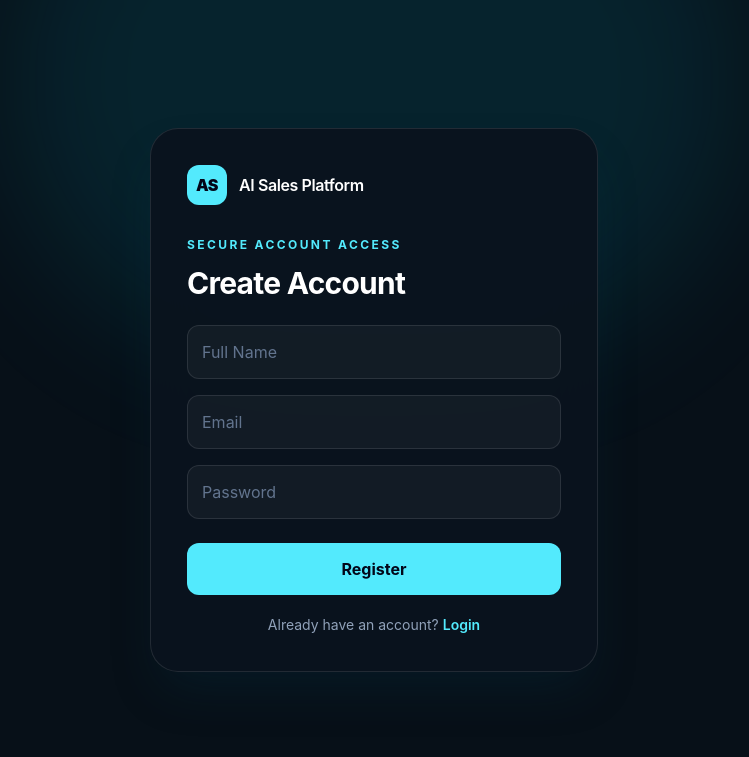
authentication form › labels and submits registration fields
This screenshot has width=749, height=757.
Type "Sales Admin" into the field labelled "Full Name" at coordinates (374, 352), box [187,325,561,379]
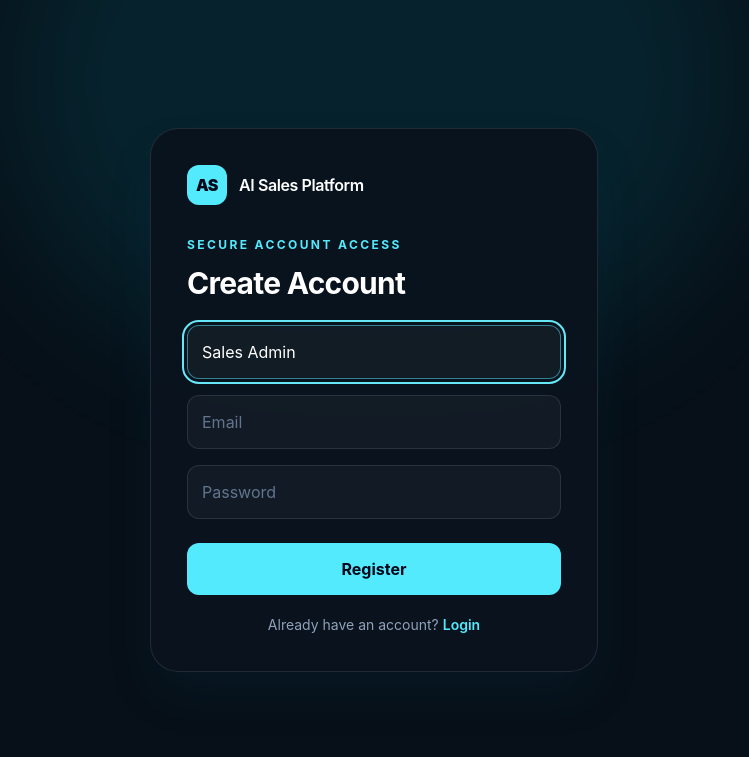
Type "admin@example.com" into the field named "Email address" at coordinates (374, 422), box [187,395,561,449]
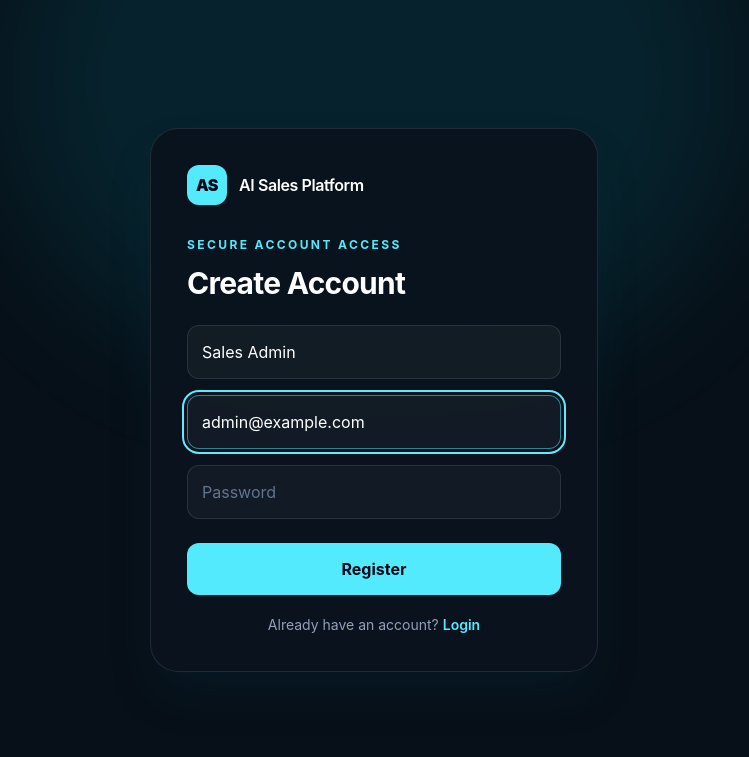
Type "safe-password" into the password field labelled "Password" at coordinates (374, 492), box [187,465,561,519]
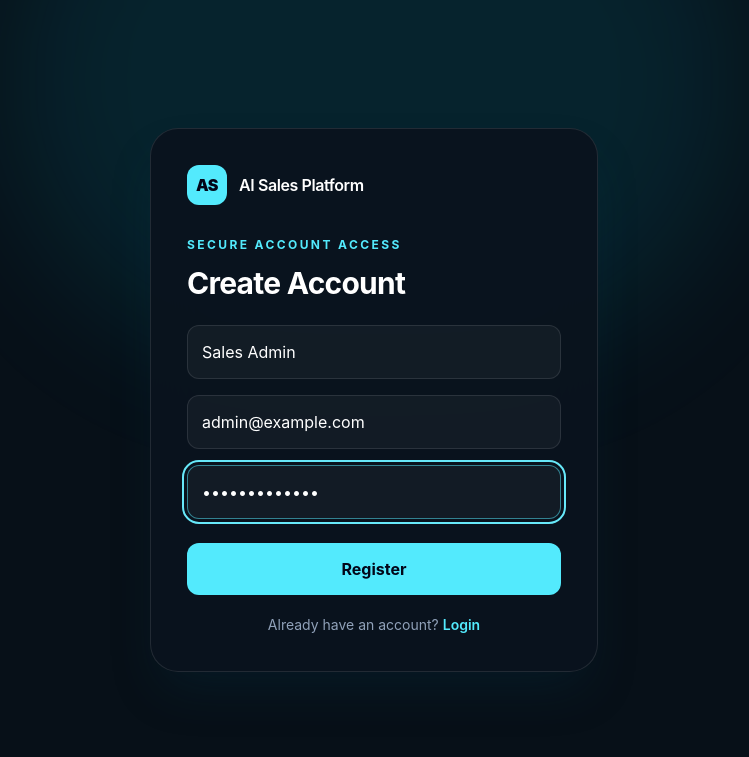
Click the button "Register" at coordinates (374, 569), box [187,543,561,595]
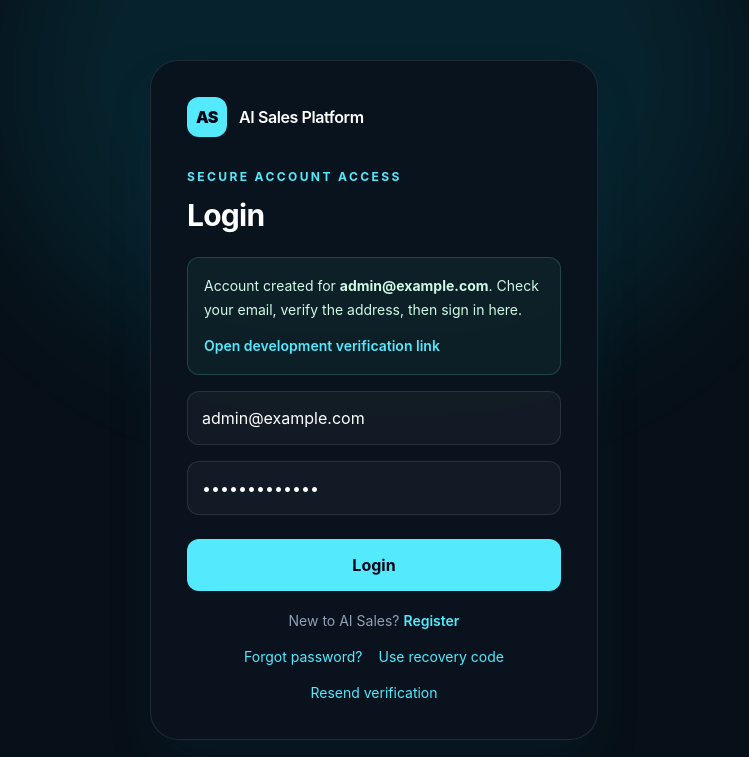
Expected: the heading "Login" is shown, [187,197,264,233]
Expected: the message shows "Account created for admin@example.com", [187,257,561,375]
